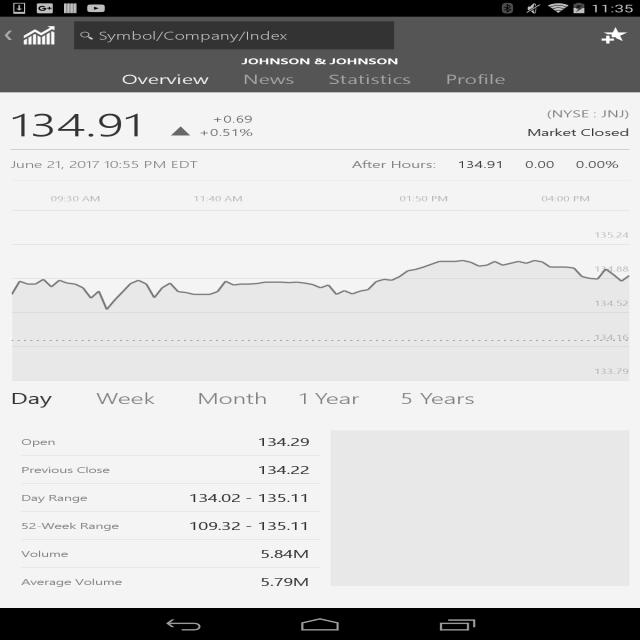EditText: (74, 22, 394, 49)
ImageView: (331, 430, 629, 586), (14, 19, 64, 52), (0, 30, 17, 41)
TextView: (0, 54, 640, 68), (11, 99, 143, 149), (253, 124, 629, 140), (11, 156, 341, 172), (111, 68, 232, 92), (318, 68, 435, 92), (189, 488, 320, 506), (189, 516, 320, 534), (96, 386, 192, 410), (198, 386, 294, 410), (298, 386, 394, 410), (400, 386, 496, 410), (435, 68, 529, 92), (232, 68, 318, 92), (10, 386, 90, 410), (589, 17, 640, 54), (21, 462, 139, 477), (21, 434, 139, 448), (21, 490, 139, 504), (21, 518, 139, 532), (21, 546, 139, 560), (21, 574, 139, 588), (547, 105, 629, 122), (352, 156, 436, 172), (258, 432, 320, 450), (260, 544, 320, 562), (260, 572, 320, 590), (258, 461, 320, 478), (170, 99, 192, 138), (199, 124, 253, 138), (458, 156, 504, 172), (199, 111, 253, 124), (576, 156, 619, 172), (525, 156, 555, 172)
